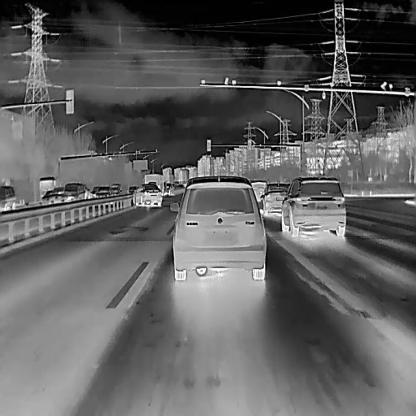car: (169, 175, 267, 280), (281, 177, 346, 238), (259, 182, 288, 214), (133, 183, 162, 206), (62, 182, 85, 202), (143, 172, 163, 194), (37, 176, 56, 199), (0, 185, 16, 212), (250, 179, 267, 202), (51, 185, 63, 203), (39, 188, 51, 204), (94, 185, 109, 197), (110, 183, 121, 197), (88, 186, 98, 198), (128, 184, 138, 192)
